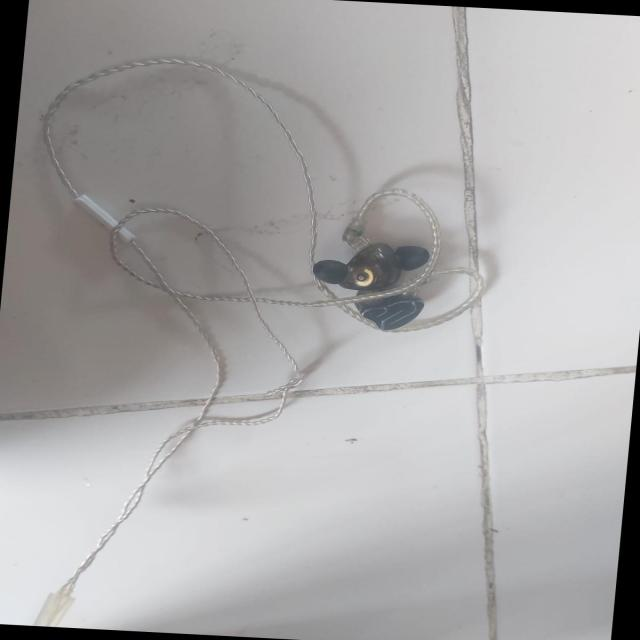earphone: (126, 120, 542, 518)
